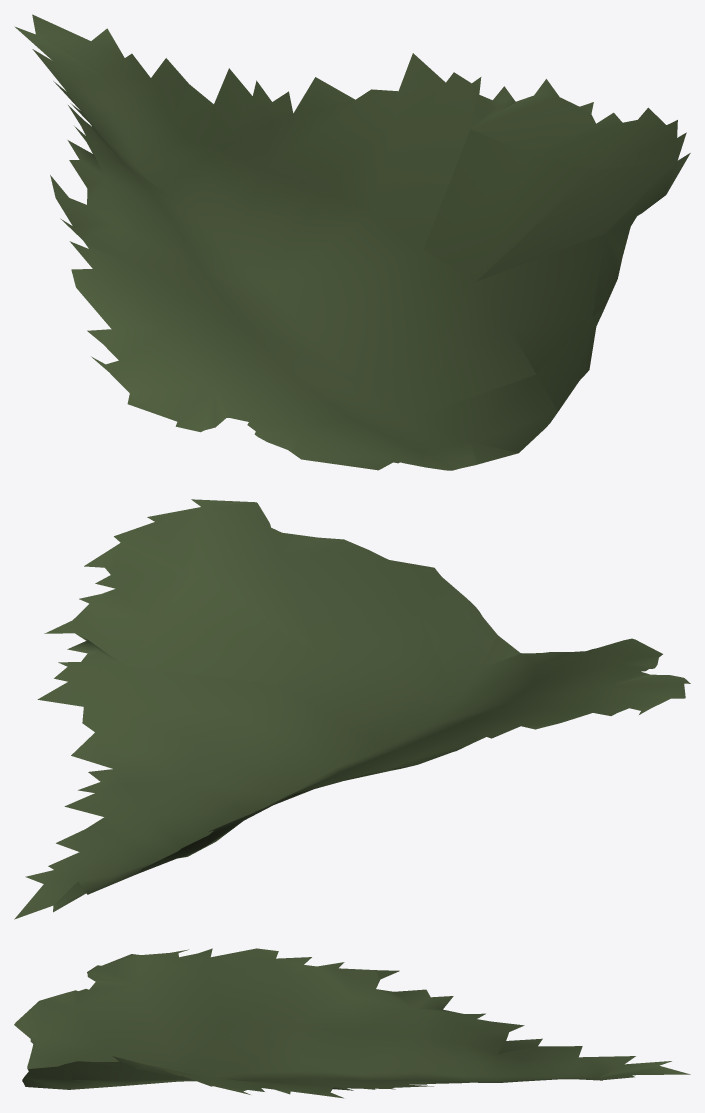
Rendered from trees-leaves-elm-leaf_v5.glb.
The picture shows the model from 3 angles, top to bottom: view 1: azimuth 30°, elevation 25°; view 2: azimuth 150°, elevation 25°; view 3: azimuth 270°, elevation 25°; orthographic projection. The views are drawn at different scales.
Parts seen in each view (by area): view 1: Elm Leaf_v5; view 2: Elm Leaf_v5; view 3: Elm Leaf_v5.
Boxes of the visible parts, x1,y1,x2,y2 form: Elm Leaf_v5: [14, 14, 690, 470]; Elm Leaf_v5: [14, 499, 690, 919]; Elm Leaf_v5: [14, 948, 690, 1098].
Size of the model in its own units: 0.0661 by 0.0183 by 0.1.
